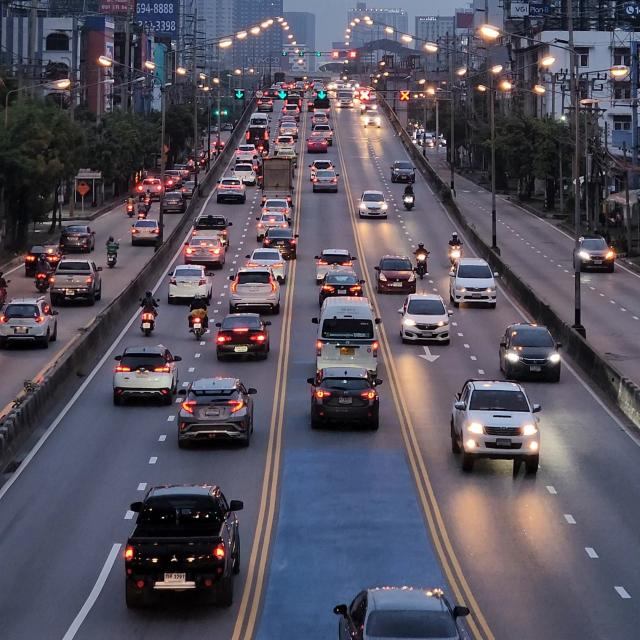Car: (124, 485, 246, 607), (442, 380, 544, 480), (177, 376, 257, 451), (314, 296, 384, 375), (307, 368, 385, 431), (496, 322, 570, 384), (114, 346, 180, 407), (0, 298, 65, 351), (394, 293, 457, 345), (214, 315, 274, 363), (47, 259, 105, 306), (450, 260, 505, 309), (224, 268, 283, 312), (569, 236, 620, 276), (375, 251, 418, 295), (168, 266, 213, 304), (178, 233, 228, 266)
